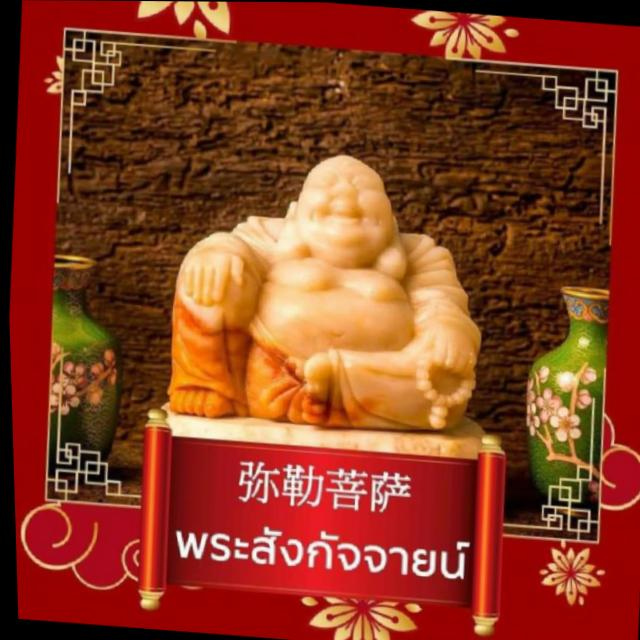Smiling Buddha: (161, 141, 494, 439)
